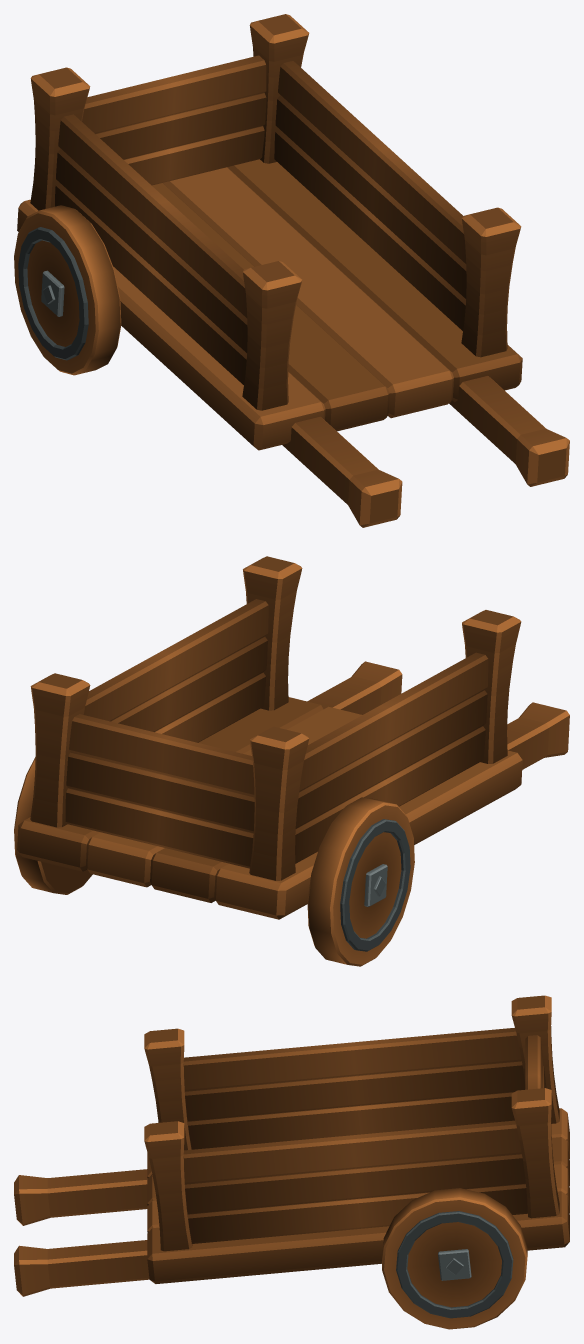
File: Cart-3.fbx
3 renders of one model, top to bottom at view 1: azimuth 30°, elevation 25°; view 2: azimuth 150°, elevation 25°; view 3: azimuth 270°, elevation 25°, orthographic. The views are drawn at different scales.
Visible parts, largest first — view 1: Cart-3; view 2: Cart-3; view 3: Cart-3.
Boxes of the visible parts, box(x1,y1,x2,y2) form: Cart-3: box(14, 14, 569, 527); Cart-3: box(14, 556, 569, 966); Cart-3: box(14, 995, 569, 1329).
Bounding box in the file's own units: 271 × 193 × 452.
